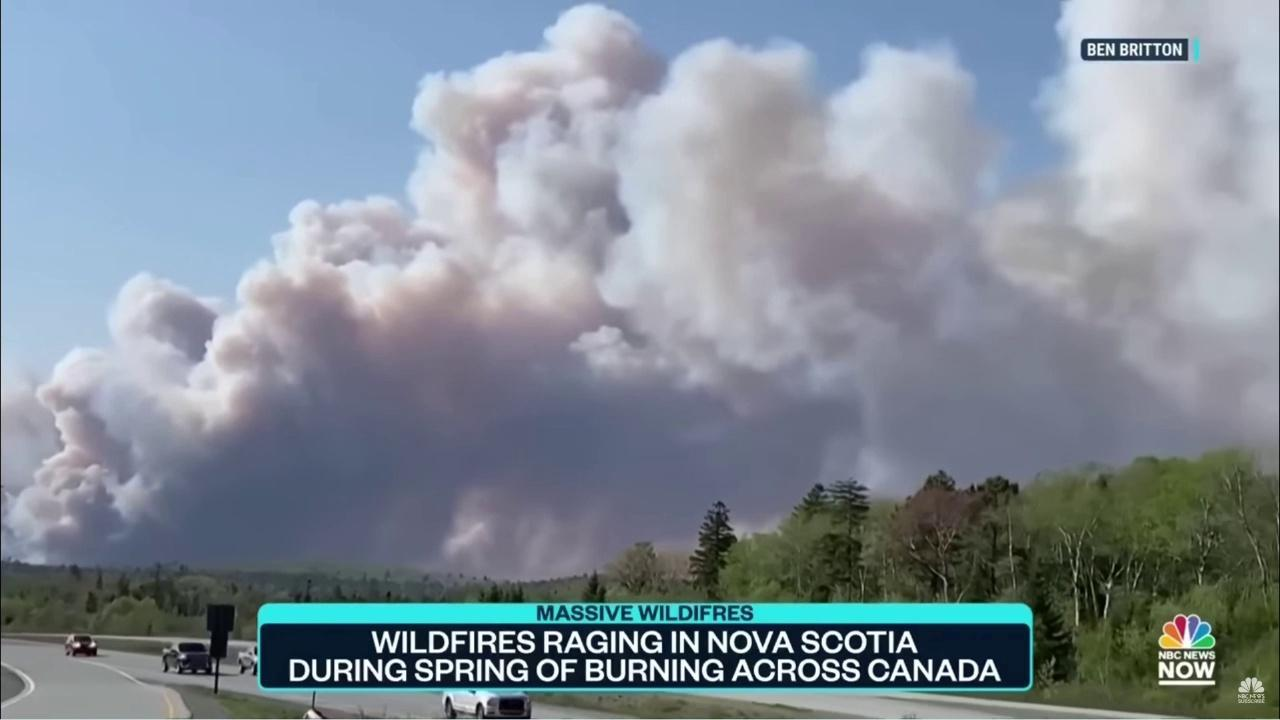smoke: (0, 0, 1280, 586)
